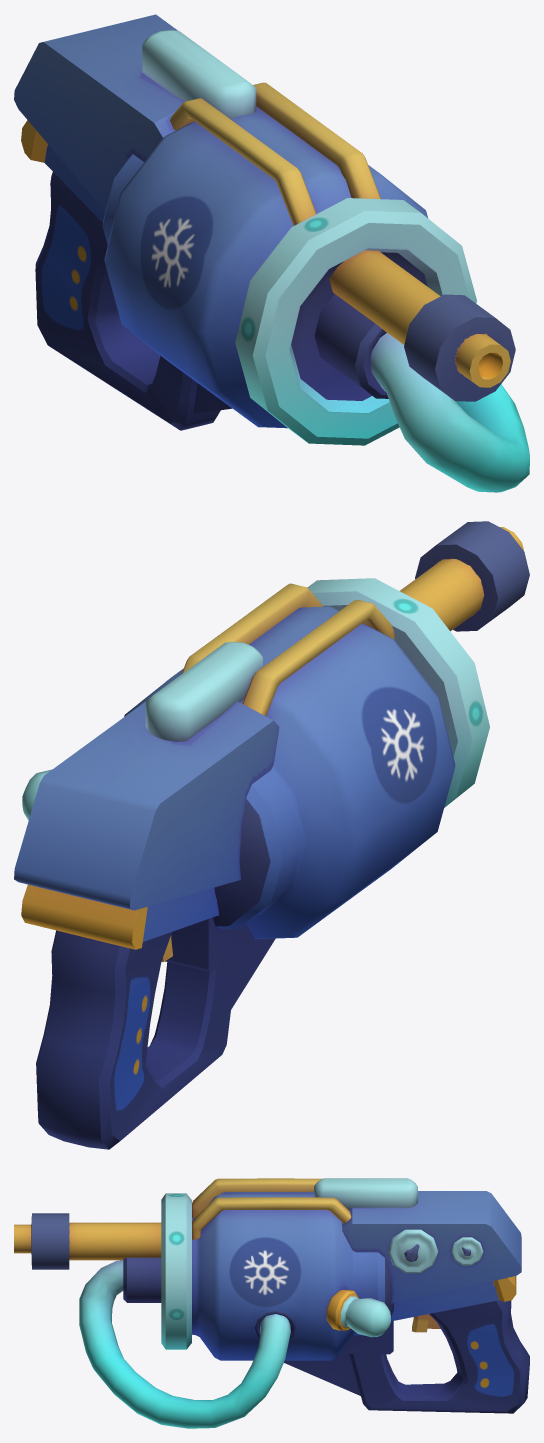
The model's file is LowPoly_FreezGun.fbx.
3 renders of one model, top to bottom at view 1: azimuth 30°, elevation 25°; view 2: azimuth 150°, elevation 25°; view 3: azimuth 270°, elevation 25°, orthographic. The views are drawn at different scales.
Parts seen in each view (by area): view 1: FreezeGun; view 2: FreezeGun; view 3: FreezeGun.
Part boxes in pixels (x1,y1,x2,y2): FreezeGun: (14, 14, 529, 492); FreezeGun: (14, 521, 529, 1149); FreezeGun: (14, 1178, 529, 1428).
Size of the model in its own units: 121 by 138 by 288.
